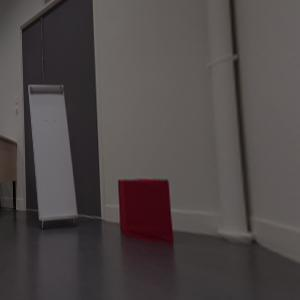big: (28, 84, 79, 224)
medium: (118, 179, 175, 241)
